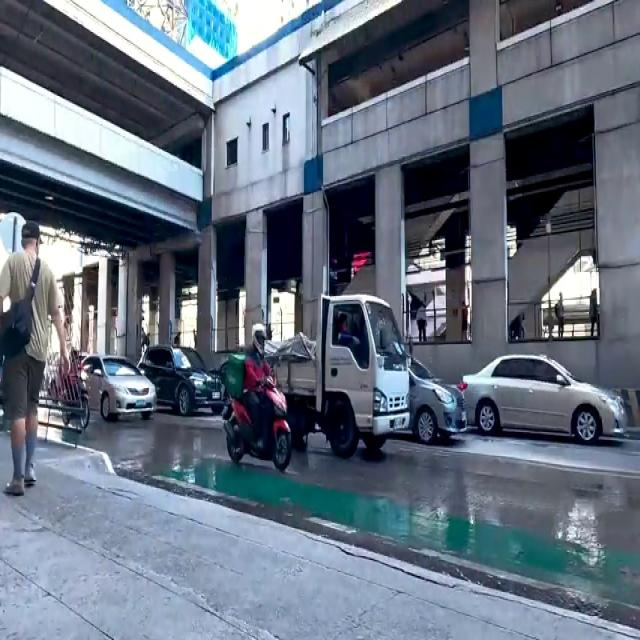car: (467, 355, 625, 448), (387, 351, 465, 449), (146, 343, 221, 415), (88, 350, 160, 420)
motorcycle: (226, 322, 292, 484)
truck: (234, 296, 409, 460)
